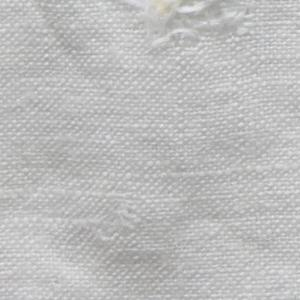Damage: (123, 1, 260, 61), (75, 198, 145, 250)
Wrinkle: (18, 1, 116, 110)
